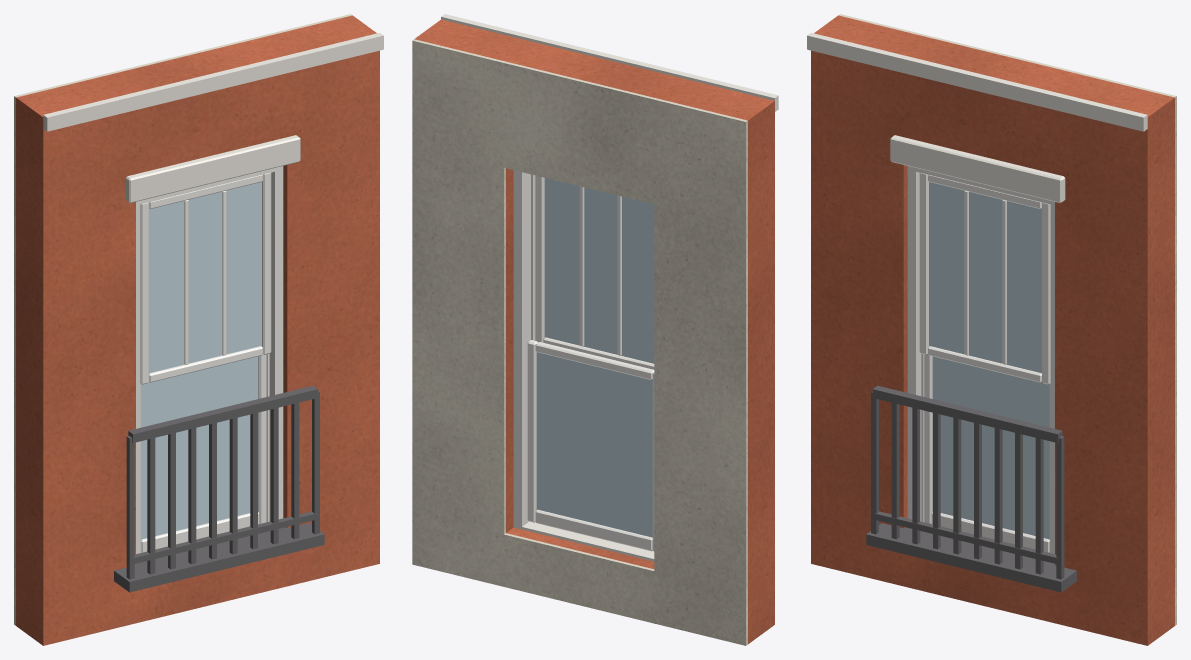
The model's file is wall_render_balconette.glb.
The picture shows the model from 3 angles, left to right: view 1: azimuth 30°, elevation 25°; view 2: azimuth 150°, elevation 25°; view 3: azimuth 330°, elevation 25°; orthographic projection.
Parts seen in each view (by area): view 1: wall_render_balconette_render, wall_render_balconette_glass, wall_render_balconette_iron, wall_render_balconette_trim, wall_render_balconette_sash, wall_render_balconette_frame, wall_render_balconette_plaster; view 2: wall_render_balconette_plaster, wall_render_balconette_glass, wall_render_balconette_render, wall_render_balconette_sash, wall_render_balconette_frame, wall_render_balconette_trim; view 3: wall_render_balconette_render, wall_render_balconette_glass, wall_render_balconette_iron, wall_render_balconette_trim, wall_render_balconette_sash, wall_render_balconette_frame, wall_render_balconette_plaster.
Part boxes in pixels (left/top/right/bottom): wall_render_balconette_render: left=16, top=15, right=379, bottom=645; wall_render_balconette_glass: left=141, top=182, right=261, bottom=539; wall_render_balconette_iron: left=114, top=385, right=324, bottom=592; wall_render_balconette_trim: left=43, top=32, right=383, bottom=203; wall_render_balconette_sash: left=140, top=172, right=271, bottom=552; wall_render_balconette_frame: left=136, top=166, right=283, bottom=553; wall_render_balconette_plaster: left=14, top=14, right=352, bottom=625; wall_render_balconette_plaster: left=412, top=39, right=747, bottom=645; wall_render_balconette_glass: left=536, top=178, right=654, bottom=537; wall_render_balconette_render: left=414, top=19, right=774, bottom=644; wall_render_balconette_sash: left=527, top=175, right=654, bottom=551; wall_render_balconette_frame: left=513, top=170, right=535, bottom=529; wall_render_balconette_trim: left=441, top=14, right=778, bottom=561; wall_render_balconette_render: left=811, top=15, right=1174, bottom=645; wall_render_balconette_glass: left=929, top=182, right=1049, bottom=539; wall_render_balconette_iron: left=866, top=385, right=1076, bottom=592; wall_render_balconette_trim: left=807, top=32, right=1147, bottom=203; wall_render_balconette_sash: left=919, top=172, right=1050, bottom=552; wall_render_balconette_frame: left=907, top=166, right=1054, bottom=553; wall_render_balconette_plaster: left=838, top=14, right=1176, bottom=625.
Size of the model in its own units: 2 by 3.02 by 0.46.
7 materials, 2 textured.
